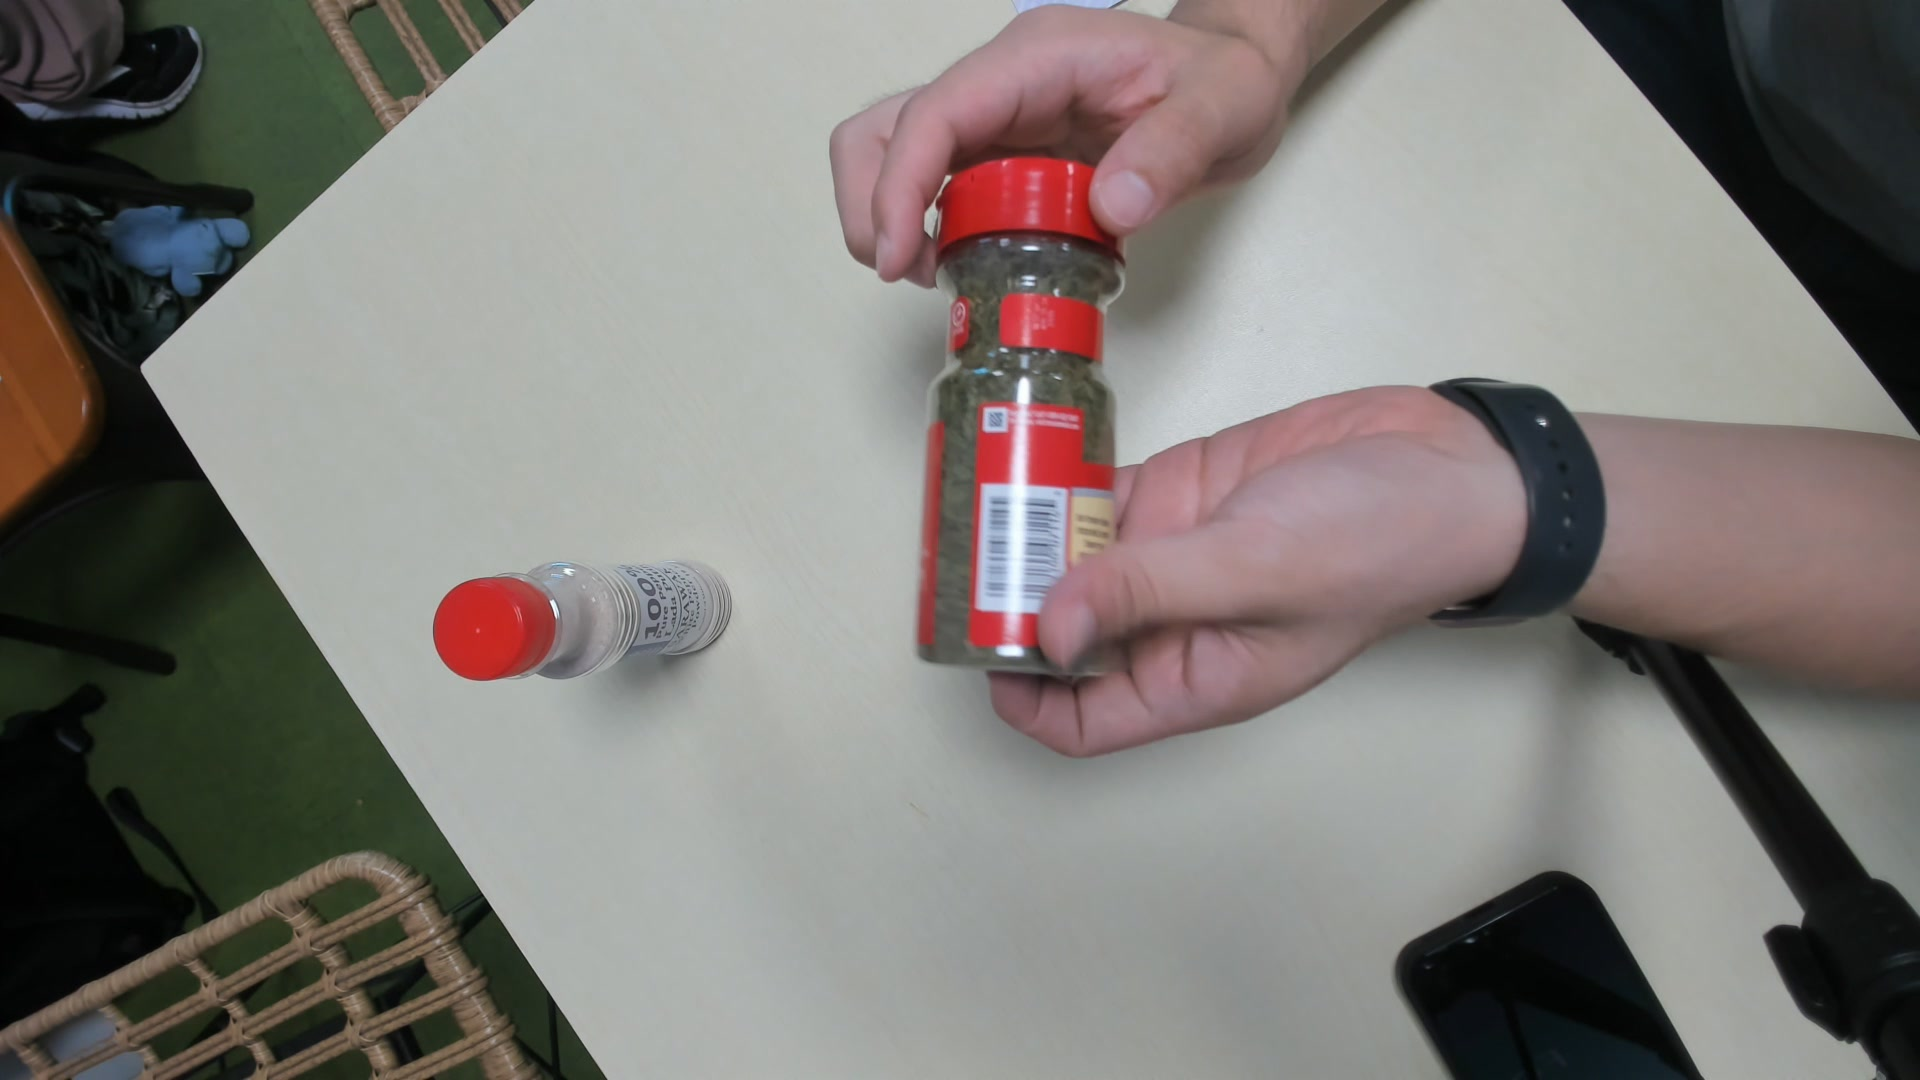HerbsSpicesPepper_0-99g_NonHalal_NonHealthy: (915, 153, 1116, 674)
